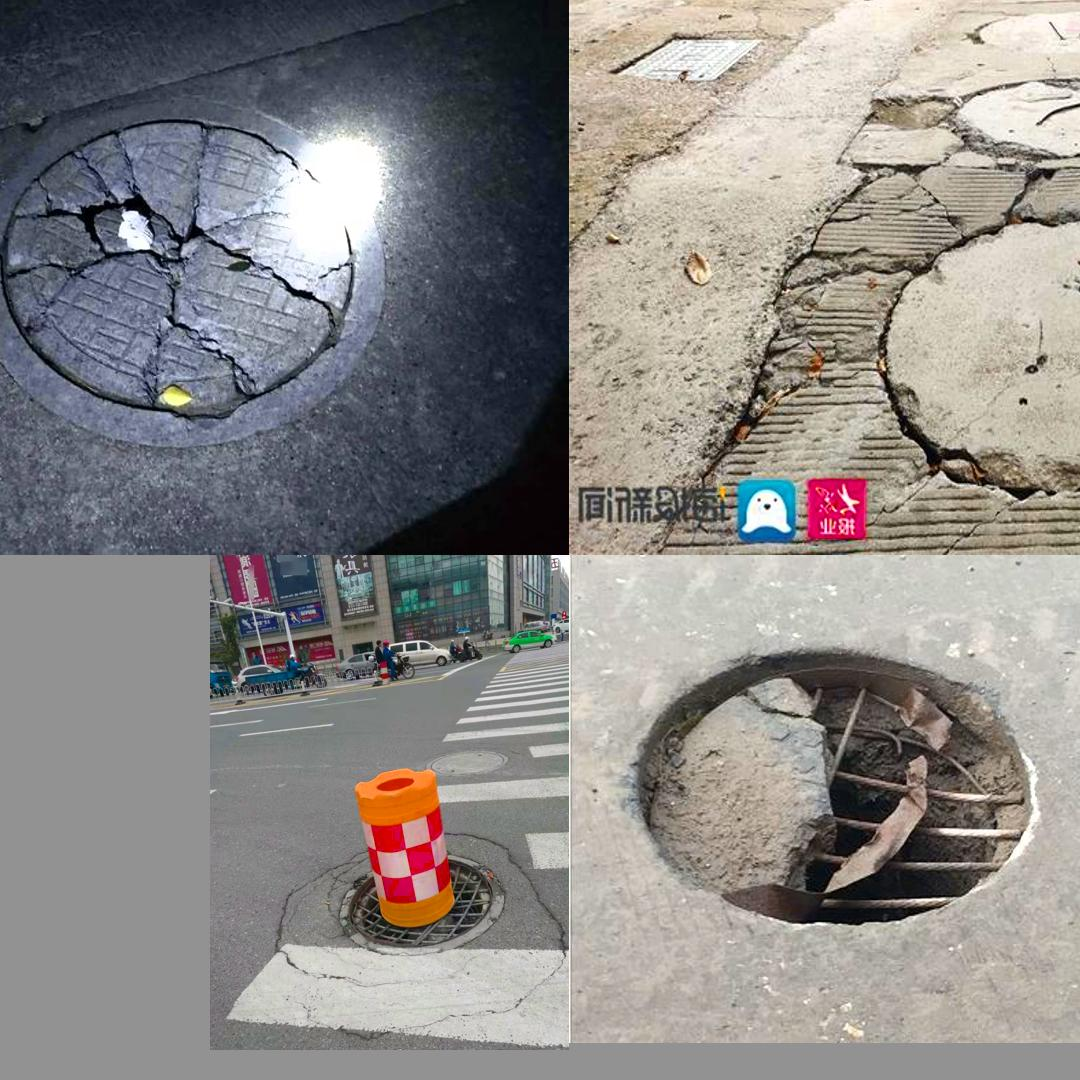broke: (633, 625, 1050, 951), (750, 122, 1080, 529), (0, 106, 400, 434), (338, 851, 504, 956)
